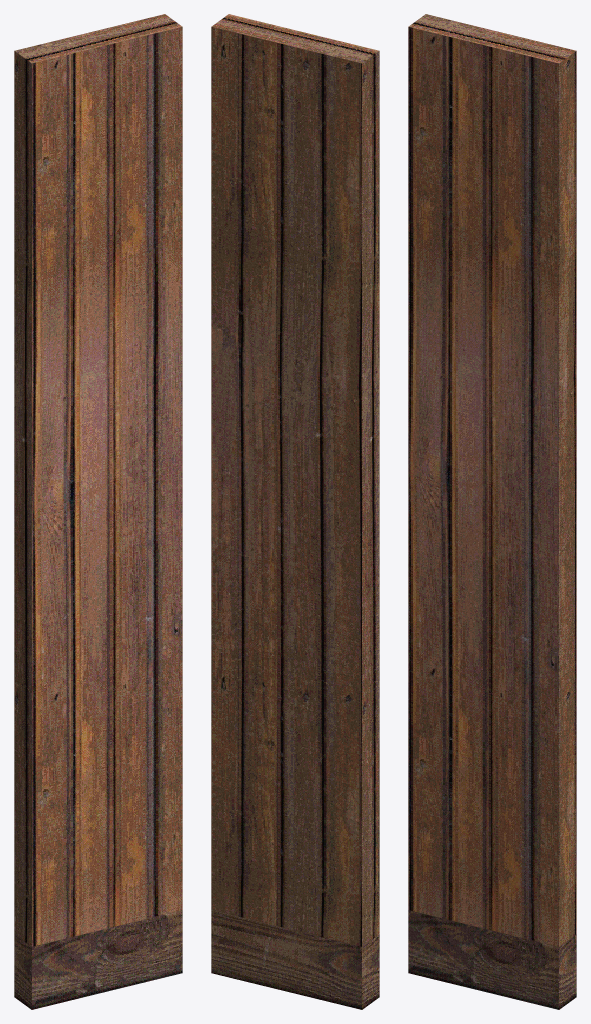
File: wall-int-filler-4.glb
The picture shows the model from 3 angles, left to right: view 1: azimuth 30°, elevation 25°; view 2: azimuth 150°, elevation 25°; view 3: azimuth 330°, elevation 25°; orthographic projection.
Visible parts, largest first — view 1: wall-int-filler-4.001; view 2: wall-int-filler-4.001; view 3: wall-int-filler-4.001.
Boxes of the visible parts, <box> form: wall-int-filler-4.001: <box>14,14,182,1009</box>; wall-int-filler-4.001: <box>211,14,379,1009</box>; wall-int-filler-4.001: <box>408,14,576,1009</box>.
Size of the model in its own units: 0.5 by 3 by 0.1.
2 materials, 2 textured.
